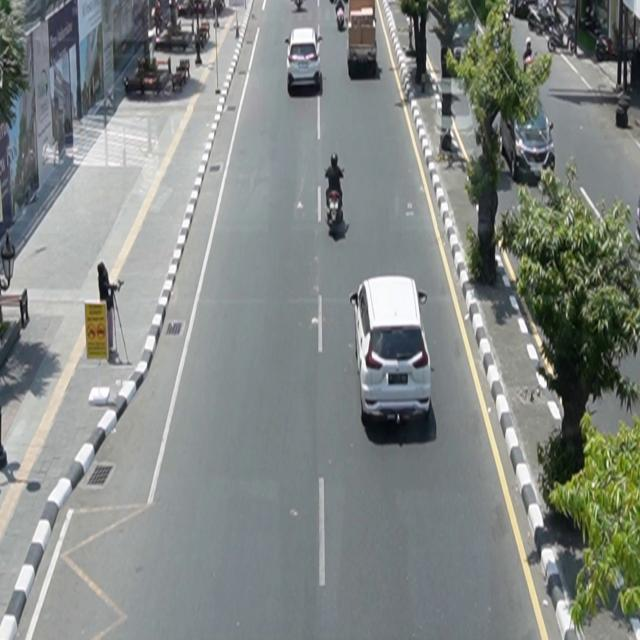car: (350, 275, 433, 427), (500, 97, 557, 184), (286, 27, 324, 96)
truck: (348, 1, 378, 79)
